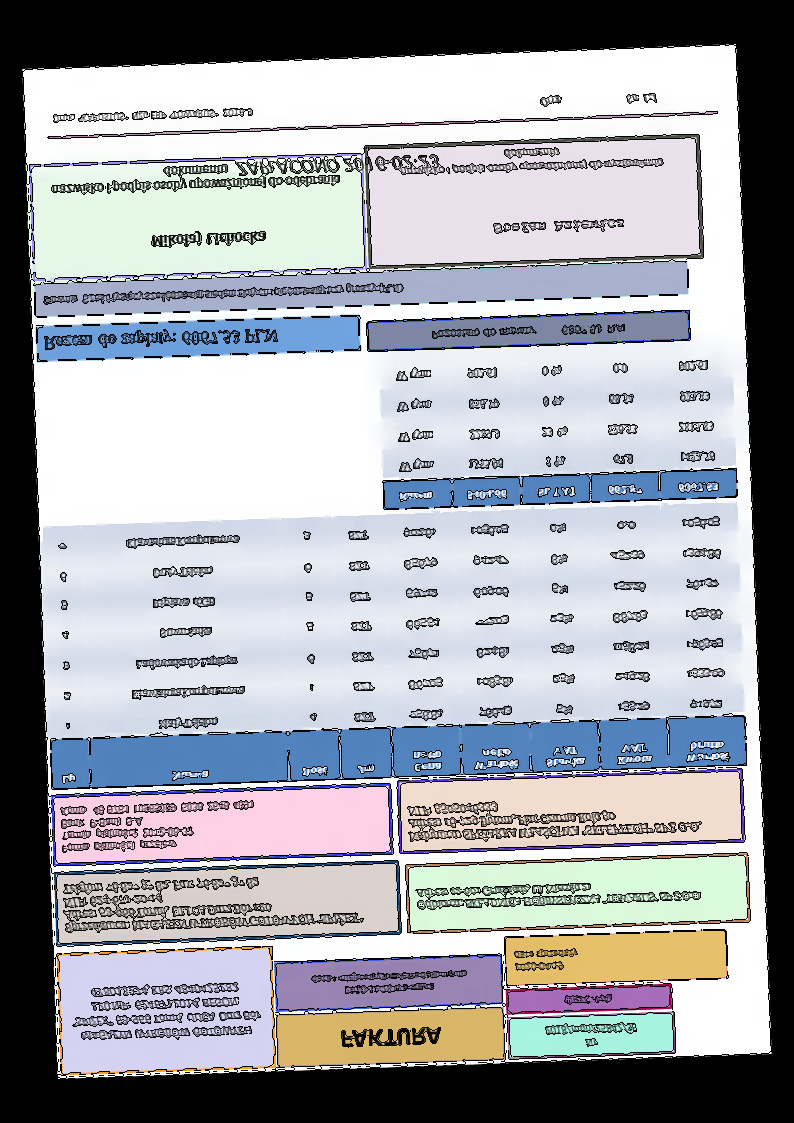Table: (41, 500, 749, 792), (376, 345, 738, 511)
TextBox: (60, 868, 367, 939), (405, 792, 705, 847), (69, 978, 263, 1045), (58, 797, 258, 857), (413, 876, 703, 914), (41, 280, 404, 310), (47, 159, 340, 196), (399, 142, 665, 181), (40, 323, 281, 355), (235, 148, 445, 179), (308, 966, 470, 999), (49, 104, 255, 128), (429, 320, 627, 342), (149, 228, 269, 254), (542, 1018, 638, 1050), (491, 215, 627, 237), (338, 1024, 445, 1049), (510, 942, 580, 976), (537, 92, 660, 110), (562, 990, 615, 1008)
